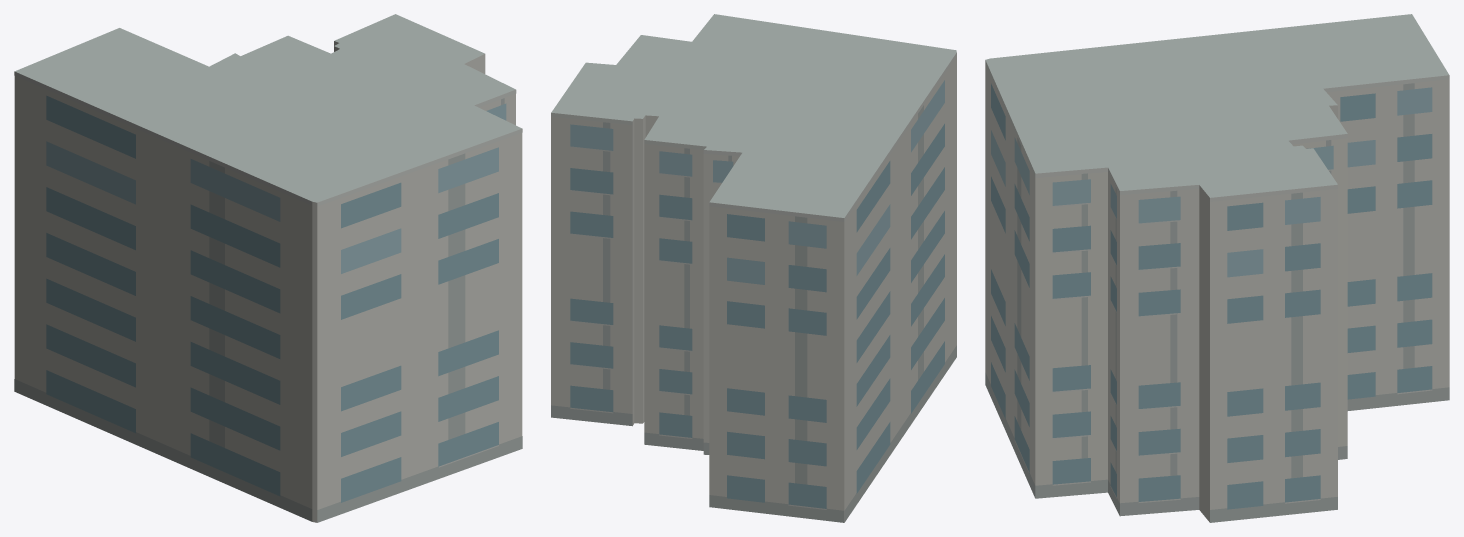
Rendered from survey-upis-32780350.glb.
3 views of the same model, side by side, from view 1: azimuth 30°, elevation 25°; view 2: azimuth 150°, elevation 25°; view 3: azimuth 270°, elevation 25° (orthographic). The views are drawn at different scales.
Parts seen in each view (by area): view 1: survey-upis-32780350.tmp; view 2: survey-upis-32780350.tmp; view 3: survey-upis-32780350.tmp.
Boxes of the visible parts, x1,y1,x2,y2 form: survey-upis-32780350.tmp: [14, 14, 522, 522]; survey-upis-32780350.tmp: [551, 14, 956, 522]; survey-upis-32780350.tmp: [985, 14, 1449, 522].
Bounding box in the file's own units: 22.82 × 18.8 × 24.34.
